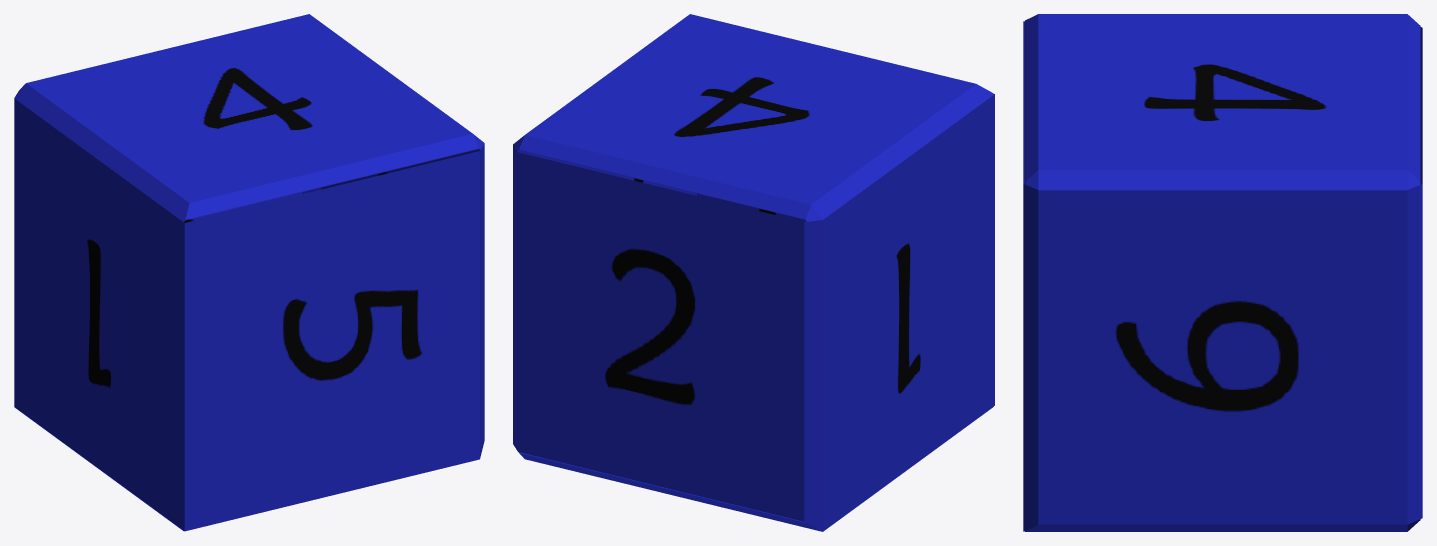
Rendered from blue_die.fbx.
3 views of the same model, side by side, from view 1: azimuth 30°, elevation 25°; view 2: azimuth 150°, elevation 25°; view 3: azimuth 270°, elevation 25° (orthographic). The views are drawn at different scales.
Visible parts, largest first — view 1: Cube; view 2: Cube; view 3: Cube.
Part boxes in pixels (<box>): Cube: <box>14,14,484,531</box>; Cube: <box>513,14,994,531</box>; Cube: <box>1023,14,1422,531</box>.
Bounding box in the file's own units: 200 × 200 × 200.
1 material, 1 textured.
